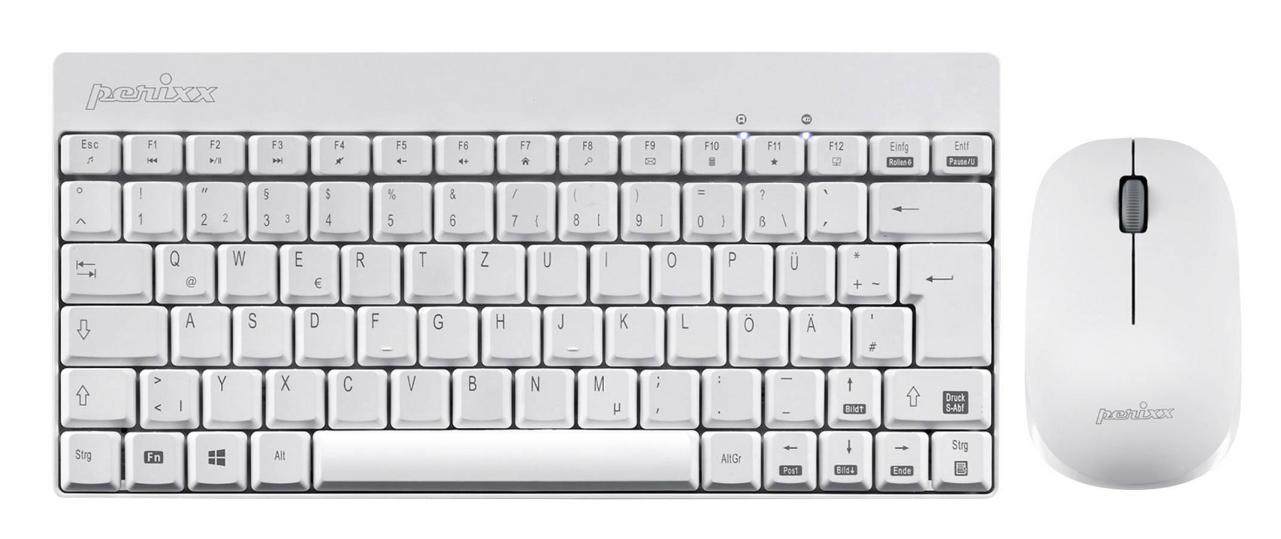0: (681, 177, 739, 238)
1: (121, 176, 180, 236)
2: (185, 176, 243, 236)
3: (246, 176, 305, 236)
4: (309, 176, 366, 235)
5: (370, 177, 427, 236)
6: (432, 177, 490, 236)
7: (495, 177, 552, 237)
8: (556, 177, 615, 237)
9: (619, 177, 677, 237)
a: (169, 300, 226, 359)
accent: (806, 176, 863, 236)
ae: (789, 301, 847, 360)
alt-left: (249, 426, 309, 485)
altgr-right: (700, 426, 758, 485)
b: (449, 363, 509, 423)
c: (325, 363, 386, 423)
caret: (57, 176, 116, 236)
comma: (637, 364, 696, 424)
d: (292, 301, 350, 360)
del: (868, 176, 991, 235)
e: (277, 238, 336, 299)
enter: (893, 238, 991, 363)
f: (354, 301, 412, 360)
g: (416, 301, 473, 360)
h: (479, 301, 537, 359)
hash: (850, 301, 909, 362)
i: (589, 239, 645, 296)
j: (542, 301, 598, 360)
k: (604, 301, 660, 359)
keyboard: (45, 119, 1008, 503)
l: (666, 301, 720, 359)
less: (137, 363, 197, 423)
m: (574, 363, 635, 425)
minus: (762, 363, 822, 423)
n: (512, 363, 571, 423)
o: (649, 239, 707, 297)
oe: (727, 301, 784, 360)
p: (711, 239, 769, 297)
plus: (835, 239, 893, 298)
point: (699, 363, 758, 422)
q: (152, 238, 213, 298)
r: (339, 239, 397, 298)
s: (230, 300, 288, 360)
shift-left: (57, 362, 133, 422)
shift-lock: (58, 300, 165, 359)
shift-right: (883, 362, 995, 425)
space: (308, 425, 698, 485)
ss: (742, 177, 801, 238)
strg-left: (56, 426, 118, 485)
strg-right: (933, 430, 991, 489)
t: (402, 238, 459, 297)
tab: (58, 238, 149, 296)
u: (525, 239, 583, 298)
ue: (774, 239, 831, 299)
v: (389, 363, 447, 423)
w: (216, 238, 274, 297)
x: (264, 363, 324, 422)
y: (201, 363, 260, 423)
z: (463, 238, 522, 298)
